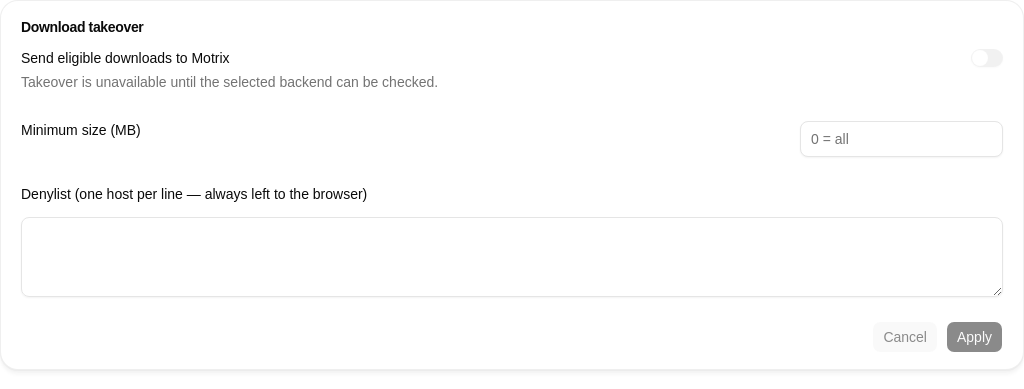
Scenario: DownloadTab › shows an error instead of saved when the background rejects a setting
Type "10" into the number field at (902, 139), box top-left (800, 121), bottom-right (1003, 157)
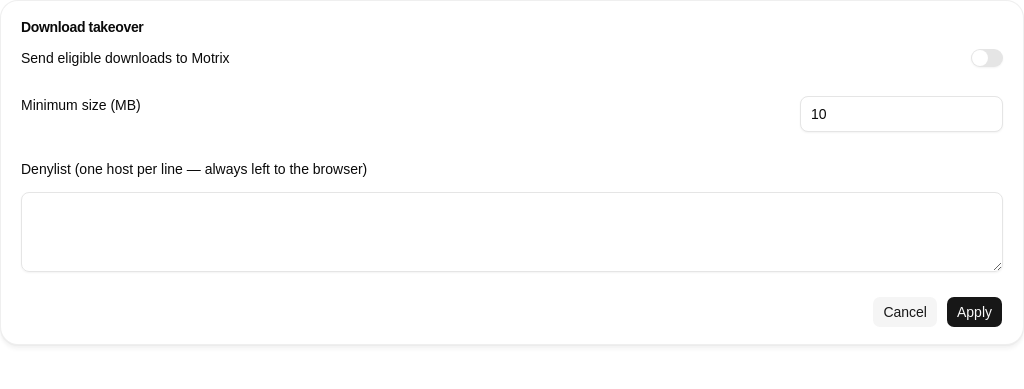
Click the button "Apply" at (974, 312), box top-left (946, 296), bottom-right (1003, 328)
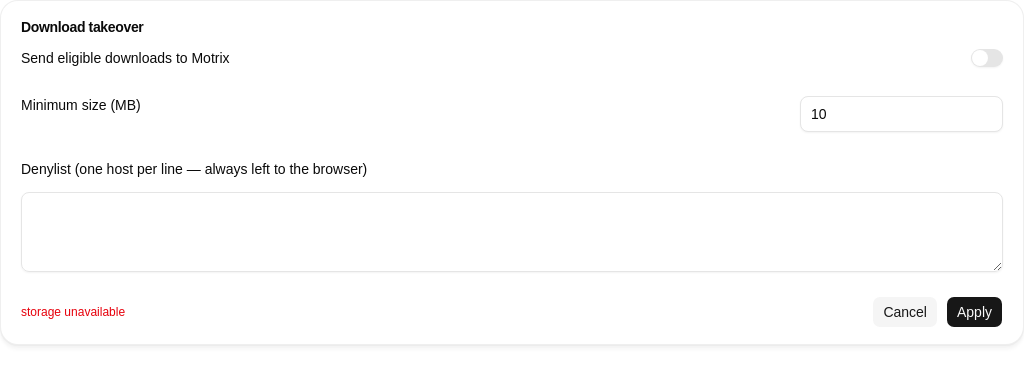
expect the text "storage unavailable" is shown: met, box top-left (21, 304), bottom-right (125, 320)
